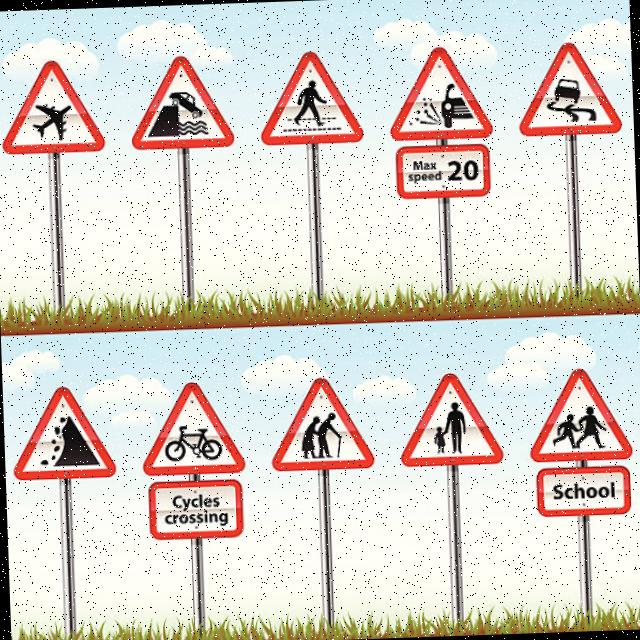road_slippery: (512, 33, 623, 142)
